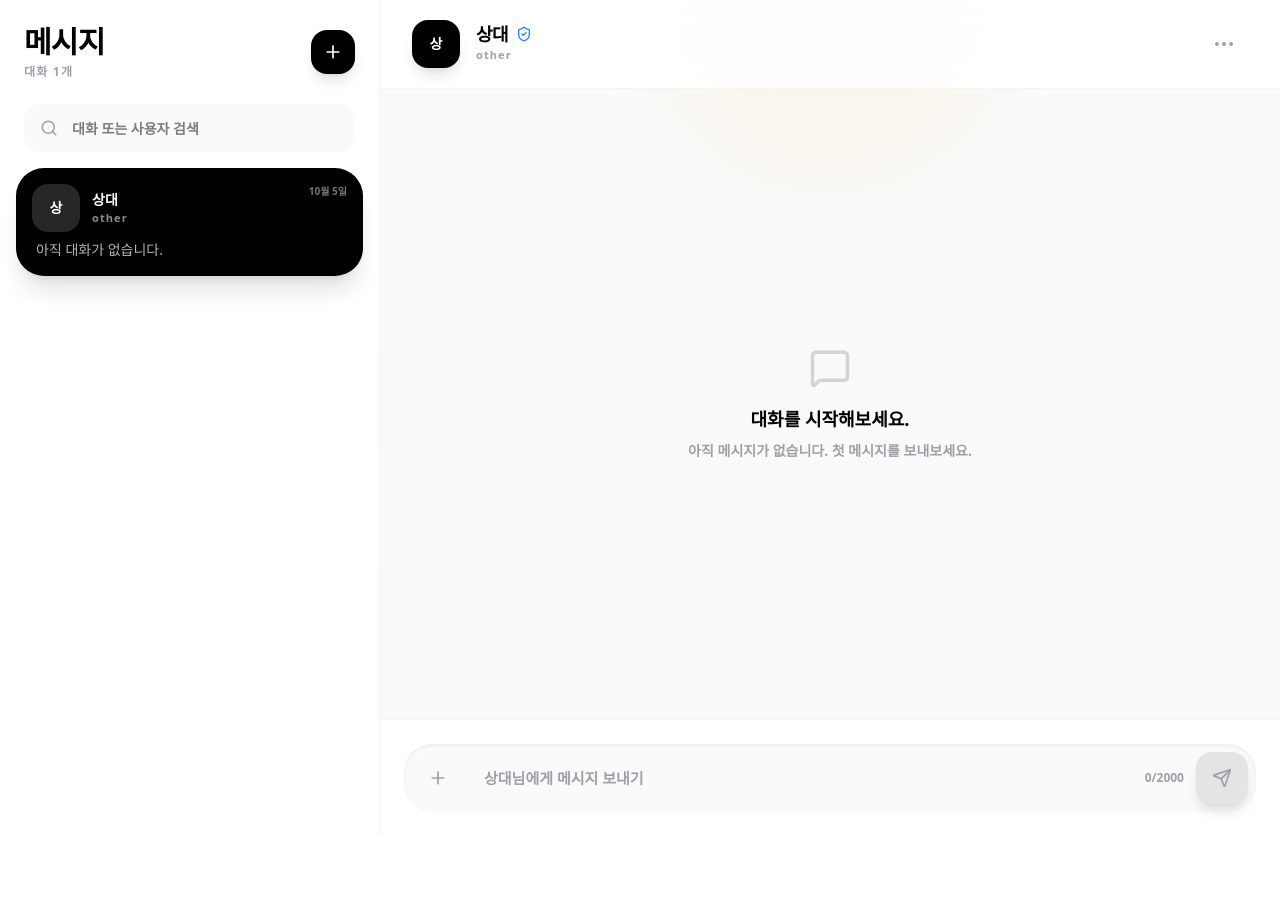
Test: MessagesPage 낙관적 전송 › 검열 거부는 정책 위반 문구와 재시도를 남기고 재시도는 같은 내용과 clientMessageId로 다시 보낸다
This screenshot has width=1280, height=900.
Type "다시" into the field with placeholder "상대님에게 메시지 보내기" at (804, 778), box x1=476 y1=767 x2=1133 y2=789
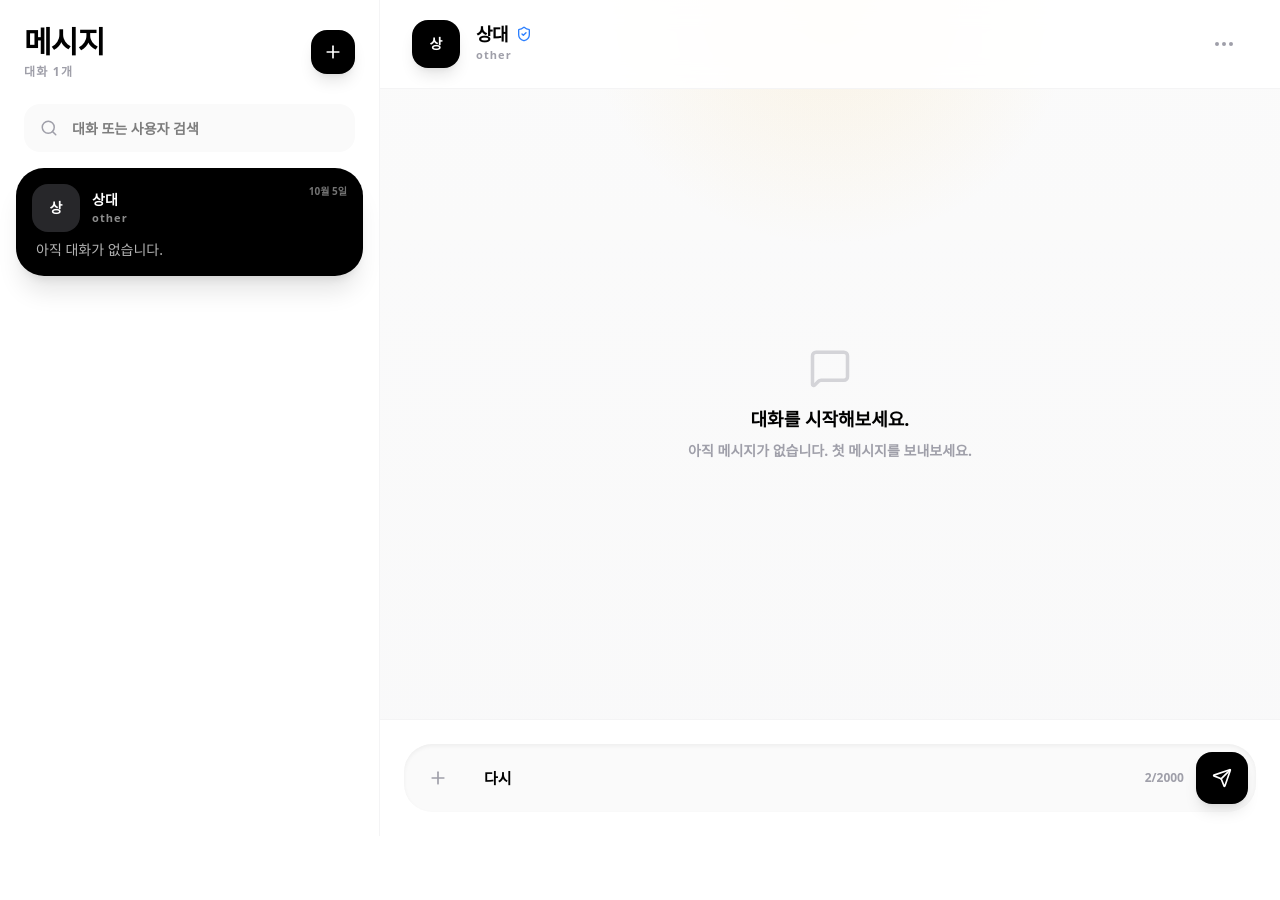
Click the button named "메시지 전송" at (1222, 778), box x1=1196 y1=752 x2=1248 y2=804
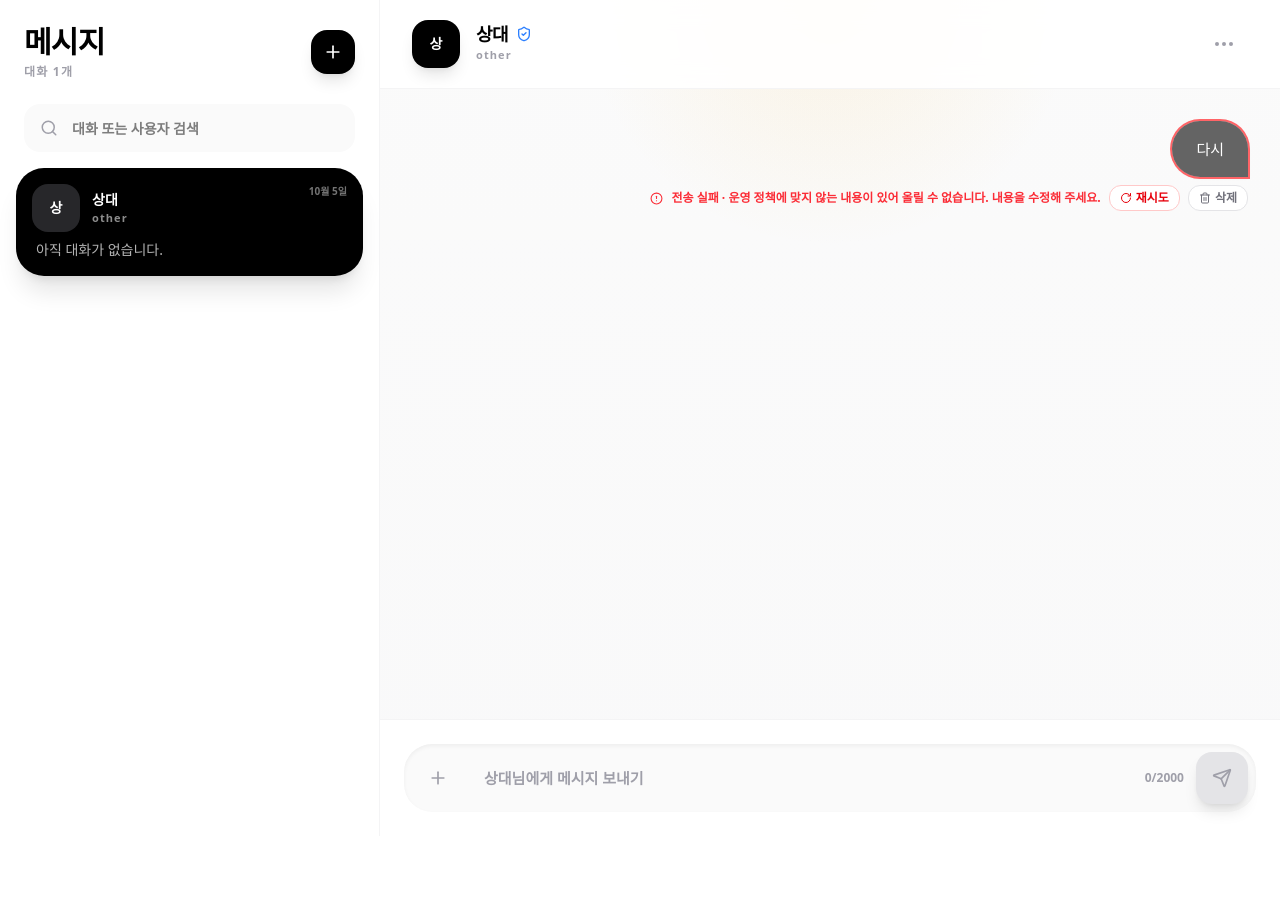
expect the text "다시" is shown: met, box x1=1196 y1=137 x2=1224 y2=161
Click the button "재시도" at (1144, 198), box x1=1109 y1=185 x2=1180 y2=211
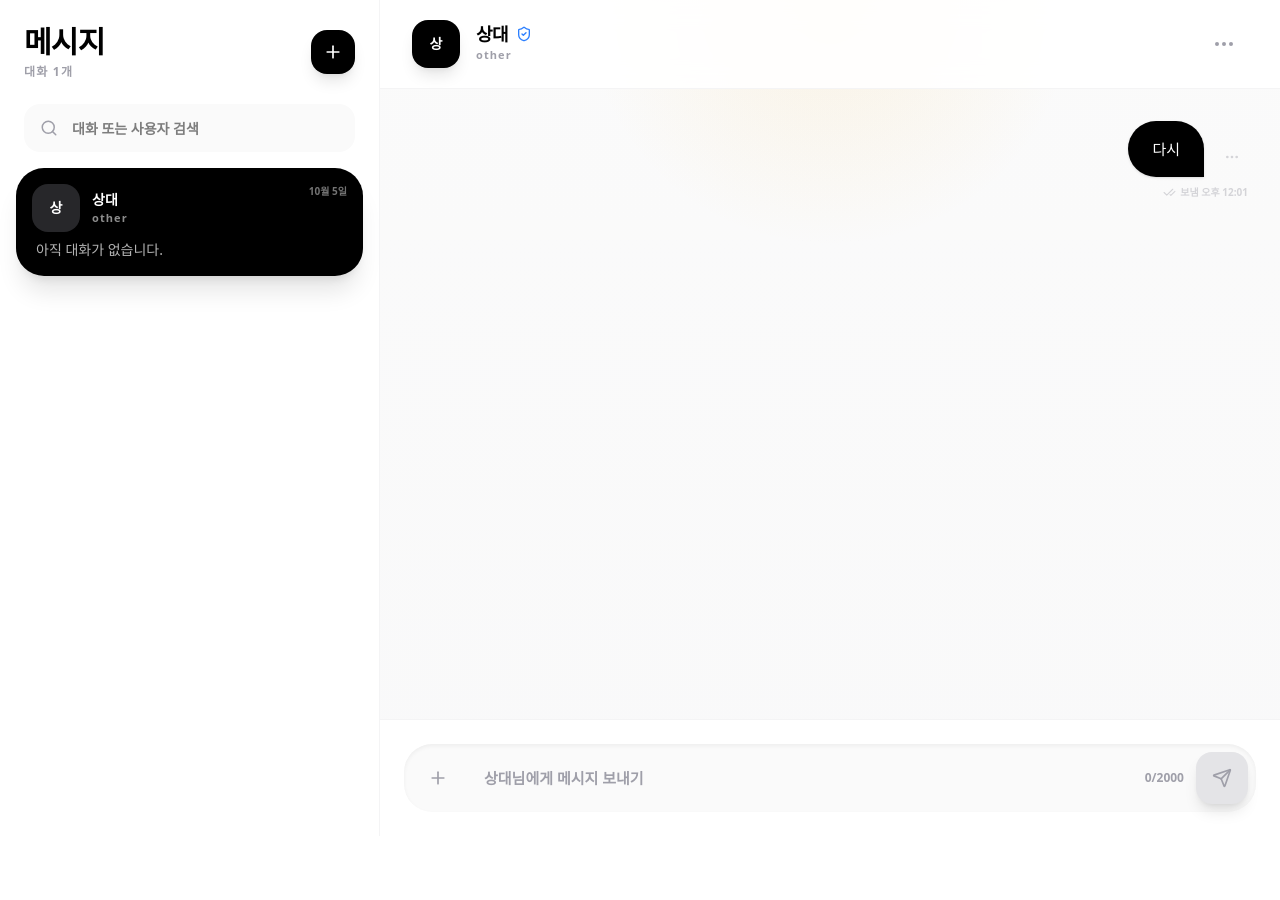
expect the text "다시" is shown once: met, box x1=1152 y1=137 x2=1180 y2=161
expect the button "재시도" is gone: met
